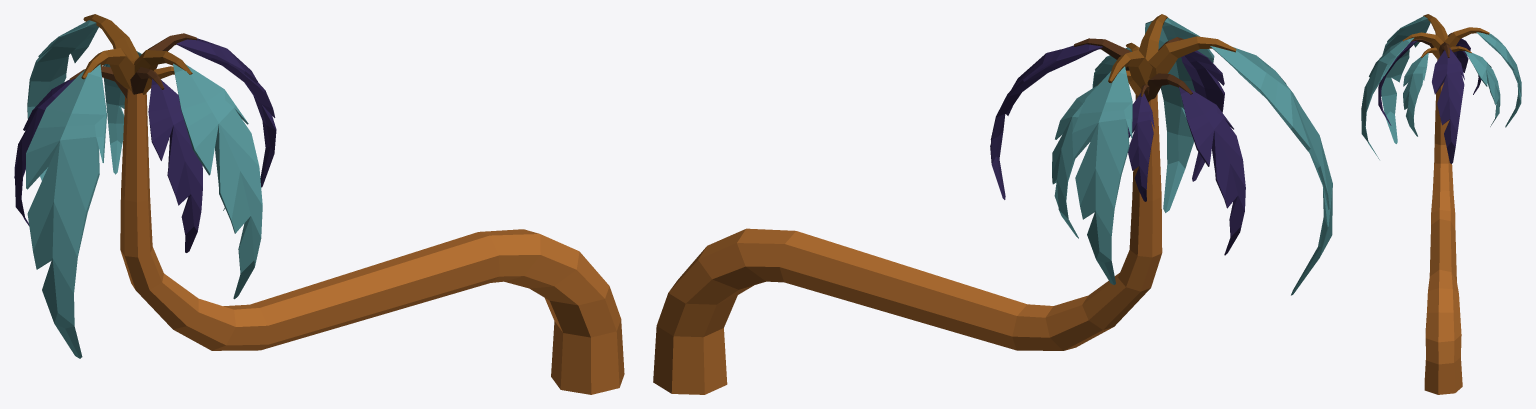
Rendered from Boom fixed1.fbx.
3 renders of one model, left to right at view 1: azimuth 30°, elevation 25°; view 2: azimuth 150°, elevation 25°; view 3: azimuth 270°, elevation 25°, orthographic. The views are drawn at different scales.
Visible parts, largest first — view 1: OG goed palmblad.006; view 2: OG goed palmblad.006; view 3: OG goed palmblad.006.
Boxes of the visible parts, bbox=[...] form: OG goed palmblad.006: bbox=[14, 14, 624, 394]; OG goed palmblad.006: bbox=[653, 14, 1332, 394]; OG goed palmblad.006: bbox=[1361, 14, 1521, 394].
Bounding box in the file's own units: 724 × 503 × 303.
